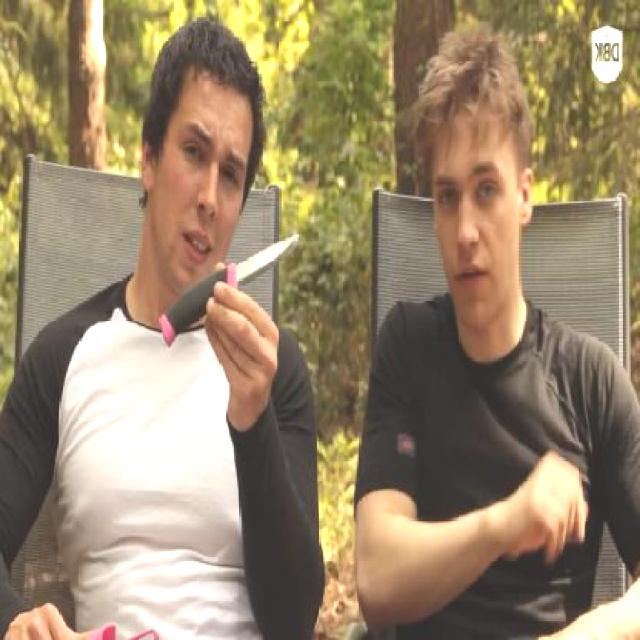knife: (152, 224, 308, 364)
